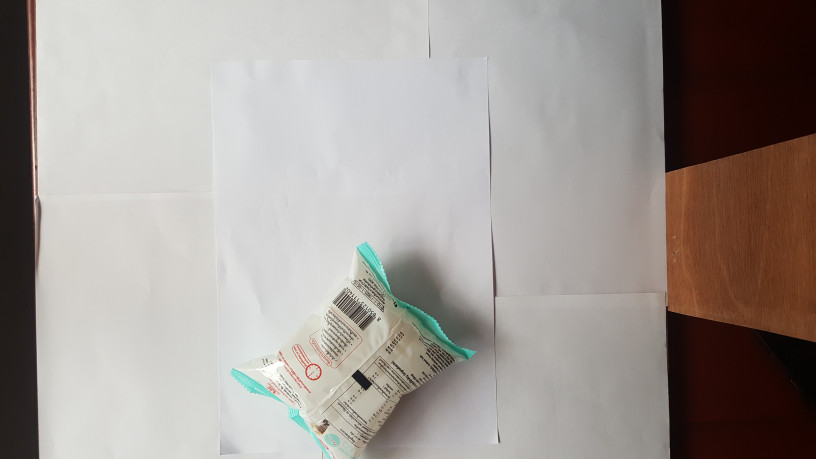farmhouse-sweetsandwich-chocolate: (230, 238, 476, 459)
